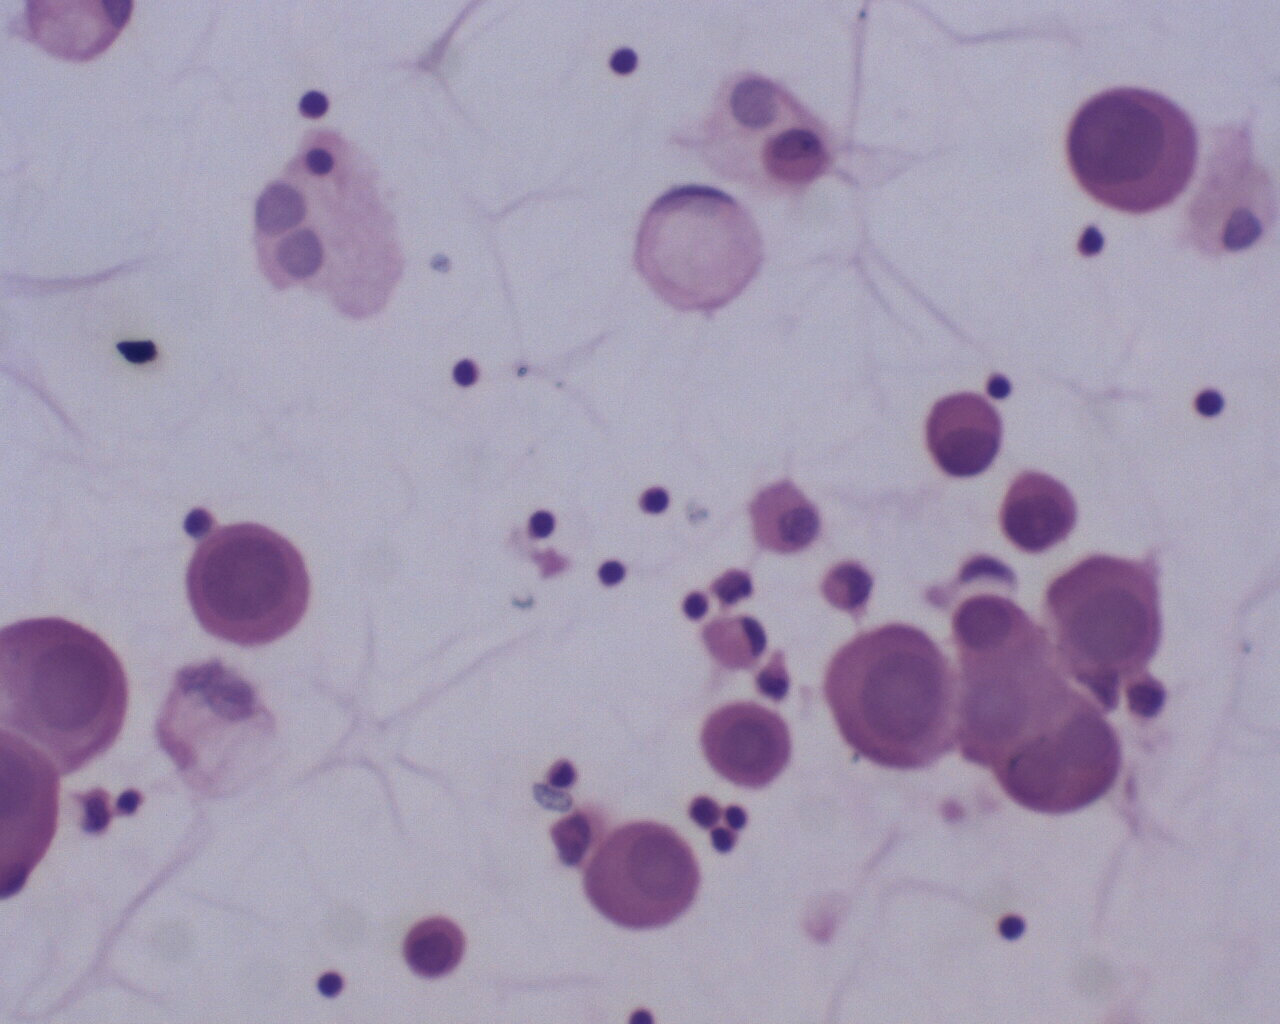ab: (824, 620, 967, 776), (1062, 80, 1201, 216), (180, 516, 319, 648), (1048, 545, 1171, 674), (587, 820, 708, 932), (918, 388, 1011, 486), (702, 698, 794, 791), (995, 466, 1080, 560)
histo: (633, 183, 768, 317)
lymph: (1185, 385, 1232, 429), (594, 552, 636, 594), (635, 478, 676, 520), (293, 86, 335, 124), (605, 43, 647, 82), (315, 960, 348, 1003), (994, 907, 1031, 942), (449, 355, 485, 388)
